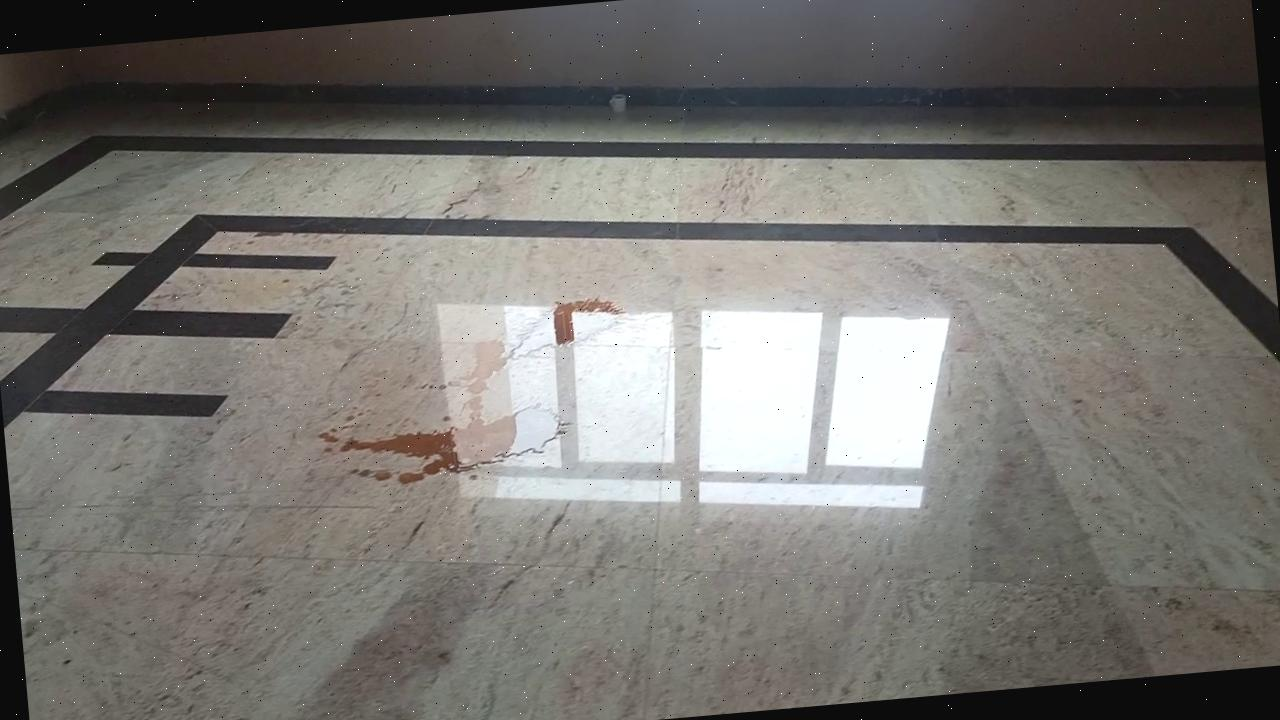dirty_floor: (320, 294, 636, 506)
